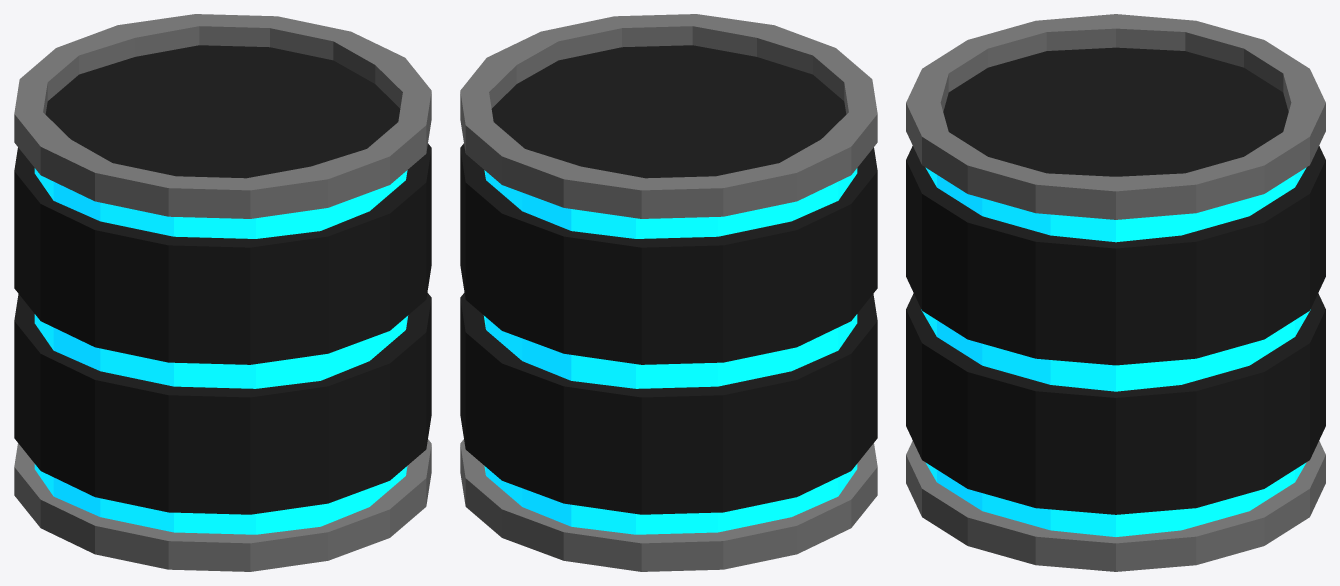
Rendered from powerup.glb.
3 views of the same model, side by side, from view 1: azimuth 30°, elevation 25°; view 2: azimuth 150°, elevation 25°; view 3: azimuth 270°, elevation 25° (orthographic).
Visible parts, largest first — view 1: powerup_glow, powerup_accent, powerup_view; view 2: powerup_glow, powerup_accent, powerup_view; view 3: powerup_glow, powerup_accent, powerup_view.
Part boxes in pixels (left/top/right/bottom): powerup_glow: left=14, top=45, right=431, bottom=514; powerup_accent: left=14, top=14, right=431, bottom=571; powerup_view: left=34, top=168, right=408, bottom=534; powerup_glow: left=460, top=45, right=877, bottom=514; powerup_accent: left=460, top=14, right=877, bottom=571; powerup_view: left=483, top=168, right=857, bottom=534; powerup_glow: left=906, top=47, right=1325, bottom=514; powerup_accent: left=906, top=14, right=1325, bottom=571; powerup_view: left=921, top=167, right=1310, bottom=536.
Size of the model in its own units: 1 by 1 by 1.
